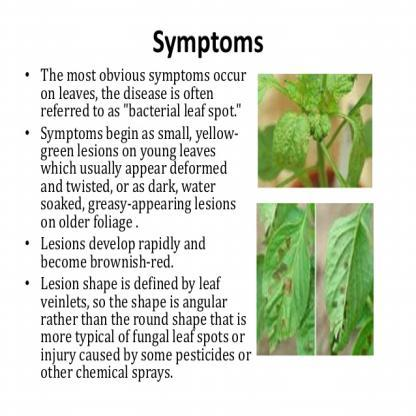Tomato leaf late blight: (323, 205, 371, 348), (264, 206, 310, 348), (272, 114, 313, 179)
